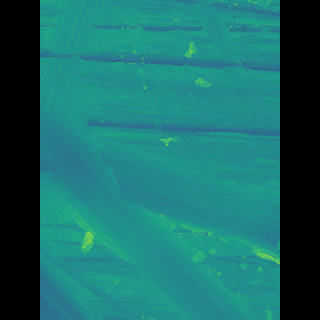Loch: (69, 112, 248, 319)
